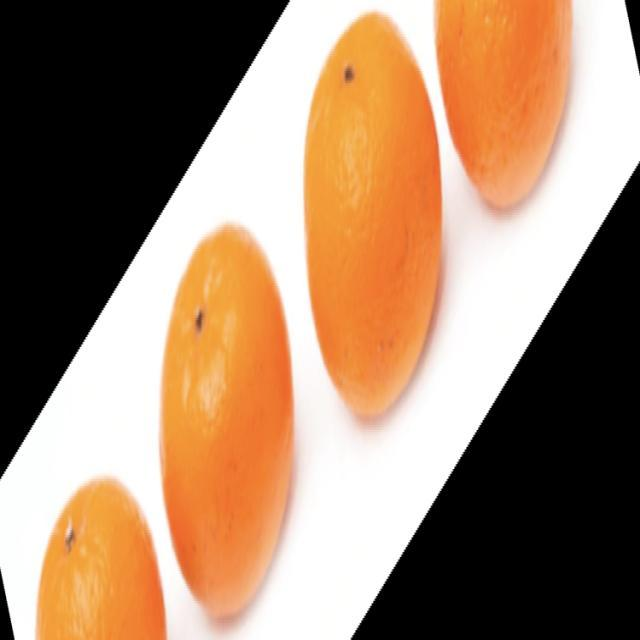matang: (305, 13, 441, 418), (162, 226, 293, 617), (436, 0, 571, 208), (37, 480, 165, 639)
